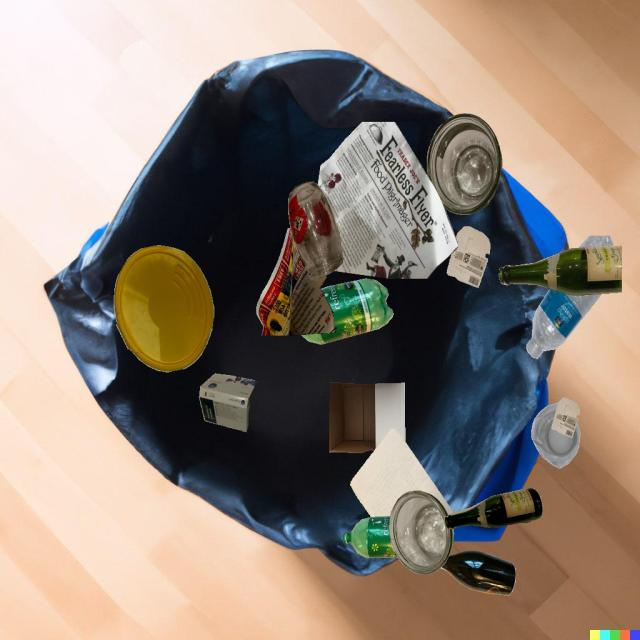cardboard: (330, 382, 405, 453), (199, 373, 257, 432)
glass: (427, 113, 502, 215), (499, 246, 622, 295), (389, 490, 454, 575), (288, 181, 343, 281), (445, 488, 543, 529), (440, 551, 515, 596)
paper: (318, 122, 458, 279), (350, 429, 454, 517), (256, 228, 337, 335), (446, 226, 490, 288), (551, 397, 580, 438)
plastic: (114, 245, 214, 372), (301, 278, 393, 345), (526, 289, 601, 359), (531, 402, 580, 469), (343, 516, 398, 558)
